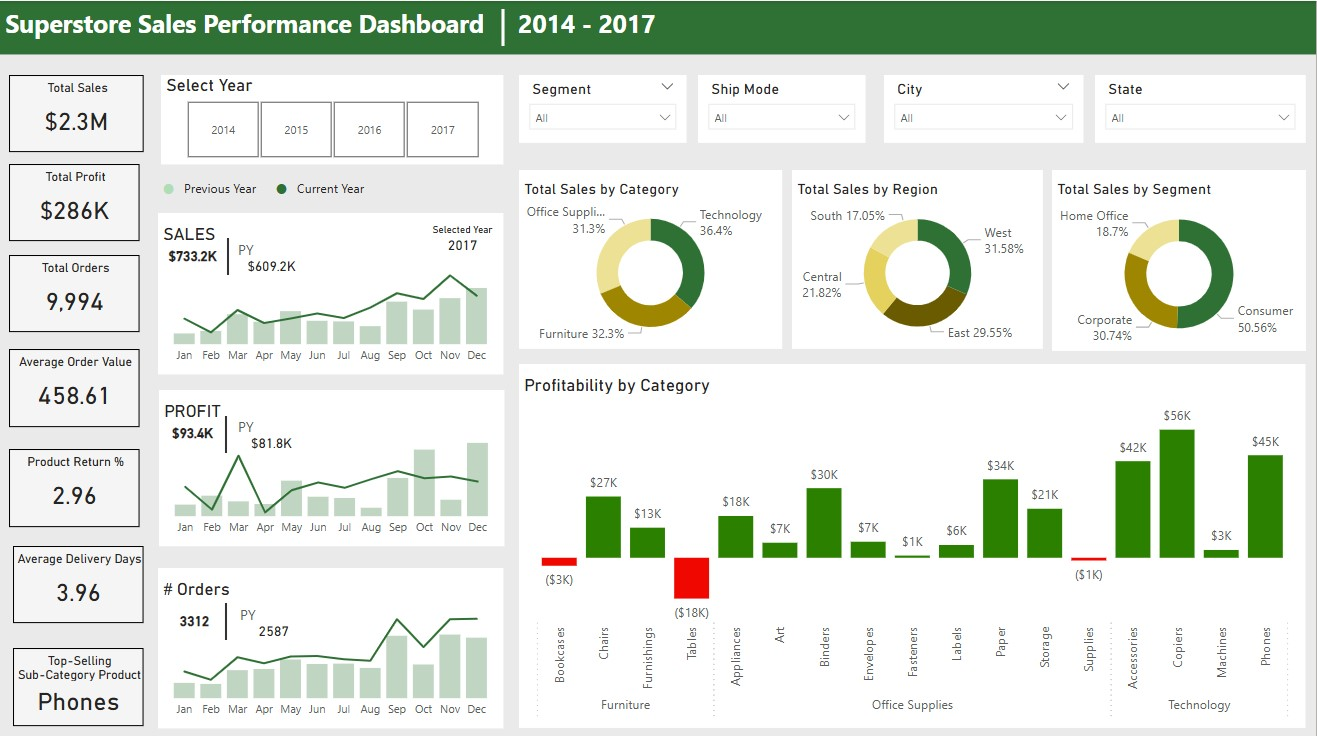

Layout of this report page (visuals, bound fields, positions):
{"tool":"powerbi","page":{"name":"Sales","canvas":[1280,720],"ordinal":0},"visuals":[{"type":"textbox","box":[0,0,1280,51.6],"z":0},{"type":"card","title":"Selected Year","fields":{"Values":["PY and CY Profit.Current Year Profit"]},"box":[154.7,405.6,65.2,33.1],"z":0,"group":"g2"},{"type":"card","title":"Selected Year","fields":{"Values":["Orders Measures.Current Year Orders"]},"box":[156.6,588.4,65.2,33.1],"z":0,"group":"g3"},{"type":"donutChart","fields":{"Y":["Sales Measures.Total Sales"],"Category":["Orders.Segment"]},"box":[1023.2,164.4,247.1,176],"z":1000},{"type":"card","fields":{"Values":["PY and CY Profit.Previous Year Profit"]},"box":[231.5,405.6,65.2,33.1],"z":1000,"group":"g2"},{"type":"card","fields":{"Values":["Orders Measures.Previous Year Orders"]},"box":[233.4,588.4,65.2,33.1],"z":1000,"group":"g3"},{"type":"donutChart","fields":{"Category":["Orders.Region"],"Y":["Sales Measures.Total Sales"]},"box":[770.3,164.4,244.1,174.1],"z":2000},{"type":"donutChart","fields":{"Y":["Sales Measures.Total Sales"],"Category":["Orders.Category"]},"box":[504.8,164.4,255.8,174.1],"z":3000},{"type":"lineStackedColumnComboChart","title":"SALES","fields":{"Category":["DateTable.Month"],"Y":["PY and CY Sales.Previous Year Sales"],"Y2":["PY and CY Sales.Current Year Sales"]},"box":[153.7,206.2,335.6,156.6],"z":4000},{"type":"slicer","title":"Select Year","fields":{"Values":["DateTable.Year"]},"box":[156.6,72,332.6,86.6],"z":5000},{"type":"textbox","box":[153.7,167.3,247.1,29.2],"z":6000},{"type":"lineStackedColumnComboChart","title":"PROFIT","fields":{"Category":["DateTable.Month"],"Y":["PY and CY Profit.Previous Year Profit"],"Y2":["PY and CY Profit.Current Year Profit"]},"box":[154.7,378.4,335.6,151.7],"z":7000},{"type":"shape","box":[477.6,7.8,23.3,36],"z":8000},{"type":"lineStackedColumnComboChart","title":"# Orders","fields":{"Category":["DateTable.Month"],"Y":["Orders Measures.Previous Year Orders"],"Y2":["Orders Measures.Current Year Orders"]},"box":[153.7,551.5,335.6,155.6],"z":9000},{"type":"card","title":"Selected Year","fields":{"Values":["Year Measures.Selected Year"]},"box":[410.5,216.9,78.8,33.1],"z":10000},{"type":"card","title":"Total Sales","fields":{"Values":["Sales Measures.Total Sales (Unaffected)"]},"box":[8.8,72,131.3,74.9],"z":11000},{"type":"card","title":"Total Profit","fields":{"Values":["Sales Measures.Total Profit (Unaffected)"]},"box":[8.8,158.5,127.4,74.9],"z":12000},{"type":"textbox","box":[513.6,393.9,141,57.4],"z":14000},{"type":"clusteredColumnChart","title":"Profitability by Category","fields":{"Category":["Orders.Category","Orders.Sub-Category"],"Y":["Sales Measures.Total Profit"]},"box":[504.8,353.1,765.5,354],"z":15000},{"type":"card","title":"Average Delivery Days","fields":{"Values":["Product Measure.Avg Delivery Days"]},"box":[12.6,530.1,127.4,74.9],"z":16000},{"type":"card","title":"Product Return %","fields":{"Values":["Product Measure.Return Percentage"]},"box":[8.8,435.7,127.4,75.9],"z":17000},{"type":"card","title":"Total Orders","fields":{"Values":["Orders Measures.Total Orders (Unaffected)"]},"box":[8.8,247.1,127.4,74.9],"z":18000},{"type":"slicer","title":"Select Year","fields":{"Values":["Orders.City"]},"box":[859.8,72,193.6,66.1],"z":19000},{"type":"slicer","title":"Select Year","fields":{"Values":["Orders.State"]},"box":[1065,72,205.2,66.1],"z":20000},{"type":"card","title":"Top-Selling Sub-Category Product","fields":{"Values":["Product Measure.Top Selling Product"]},"box":[12.6,629.3,127.4,75.9],"z":21000},{"type":"card","title":"Average Order Value","fields":{"Values":["Sales Measures.AOV"]},"box":[8.8,338.5,127.4,75.9],"z":21001},{"type":"slicer","title":"Select Year","fields":{"Values":["Orders.Segment"]},"box":[504.8,72,163.4,66.1],"z":21002},{"type":"slicer","title":"Select Year","fields":{"Values":["Orders.Ship Mode"]},"box":[678.9,72,163.4,66.1],"z":21003},{"type":"card","title":"Selected Year","fields":{"Values":["PY and CY Sales.Current Year Sales"]},"box":[154.7,233.4,65.2,33.1],"z":21004,"group":"g1"},{"type":"card","fields":{"Values":["PY and CY Sales.Previous Year Sales"]},"box":[231.5,233.4,65.2,33.1],"z":21005,"group":"g1"},{"type":"group","id":"g1","title":"Group 1","box":[154.7,233.4,142,33.1],"z":21006},{"type":"group","id":"g2","title":"Group 1","box":[154.7,405.6,142,33.1],"z":21007},{"type":"group","id":"g3","title":"Group 1","box":[156.6,588.4,142,33.1],"z":21008},{"type":"shape","box":[205.2,230.5,33.1,36],"z":21009},{"type":"shape","box":[203.3,403.6,33.1,36],"z":21010},{"type":"shape","box":[203.3,585.5,33.1,36],"z":21011}]}

Visuals, with their boxes in screenshot pixels (x1, y1, x2, y2), scaled from the page's 1280x720 canvas onto the 1317x736 screenshot:
textbox: {"x1": 0, "y1": 0, "x2": 1316, "y2": 53}
"Selected Year" card: {"x1": 159, "y1": 415, "x2": 226, "y2": 448}
"Selected Year" card: {"x1": 161, "y1": 601, "x2": 228, "y2": 635}
donutChart - Sales Measures.Total Sales x Orders.Segment: {"x1": 1053, "y1": 168, "x2": 1307, "y2": 348}
card - PY and CY Profit.Previous Year Profit: {"x1": 238, "y1": 415, "x2": 305, "y2": 448}
card - Orders Measures.Previous Year Orders: {"x1": 240, "y1": 601, "x2": 307, "y2": 635}
donutChart - Orders.Region x Sales Measures.Total Sales: {"x1": 793, "y1": 168, "x2": 1044, "y2": 346}
donutChart - Sales Measures.Total Sales x Orders.Category: {"x1": 519, "y1": 168, "x2": 783, "y2": 346}
"SALES" lineStackedColumnComboChart: {"x1": 158, "y1": 211, "x2": 503, "y2": 371}
"Select Year" slicer: {"x1": 161, "y1": 74, "x2": 503, "y2": 162}
textbox: {"x1": 158, "y1": 171, "x2": 412, "y2": 201}
"PROFIT" lineStackedColumnComboChart: {"x1": 159, "y1": 387, "x2": 504, "y2": 542}
shape: {"x1": 491, "y1": 8, "x2": 515, "y2": 45}
"# Orders" lineStackedColumnComboChart: {"x1": 158, "y1": 564, "x2": 503, "y2": 723}
"Selected Year" card: {"x1": 422, "y1": 222, "x2": 503, "y2": 256}
"Total Sales" card: {"x1": 9, "y1": 74, "x2": 144, "y2": 150}
"Total Profit" card: {"x1": 9, "y1": 162, "x2": 140, "y2": 239}
textbox: {"x1": 528, "y1": 403, "x2": 674, "y2": 461}
"Profitability by Category" clusteredColumnChart: {"x1": 519, "y1": 361, "x2": 1307, "y2": 723}
"Average Delivery Days" card: {"x1": 13, "y1": 542, "x2": 144, "y2": 618}
"Product Return %" card: {"x1": 9, "y1": 445, "x2": 140, "y2": 523}
"Total Orders" card: {"x1": 9, "y1": 253, "x2": 140, "y2": 329}
"Select Year" slicer: {"x1": 885, "y1": 74, "x2": 1084, "y2": 141}
"Select Year" slicer: {"x1": 1096, "y1": 74, "x2": 1307, "y2": 141}
"Top-Selling Sub-Category Product" card: {"x1": 13, "y1": 643, "x2": 144, "y2": 721}
"Average Order Value" card: {"x1": 9, "y1": 346, "x2": 140, "y2": 424}
"Select Year" slicer: {"x1": 519, "y1": 74, "x2": 688, "y2": 141}
"Select Year" slicer: {"x1": 699, "y1": 74, "x2": 867, "y2": 141}
"Selected Year" card: {"x1": 159, "y1": 239, "x2": 226, "y2": 272}
card - PY and CY Sales.Previous Year Sales: {"x1": 238, "y1": 239, "x2": 305, "y2": 272}
"Group 1" group: {"x1": 159, "y1": 239, "x2": 305, "y2": 272}
"Group 1" group: {"x1": 159, "y1": 415, "x2": 305, "y2": 448}
"Group 1" group: {"x1": 161, "y1": 601, "x2": 307, "y2": 635}
shape: {"x1": 211, "y1": 236, "x2": 245, "y2": 272}
shape: {"x1": 209, "y1": 413, "x2": 243, "y2": 449}
shape: {"x1": 209, "y1": 599, "x2": 243, "y2": 635}
